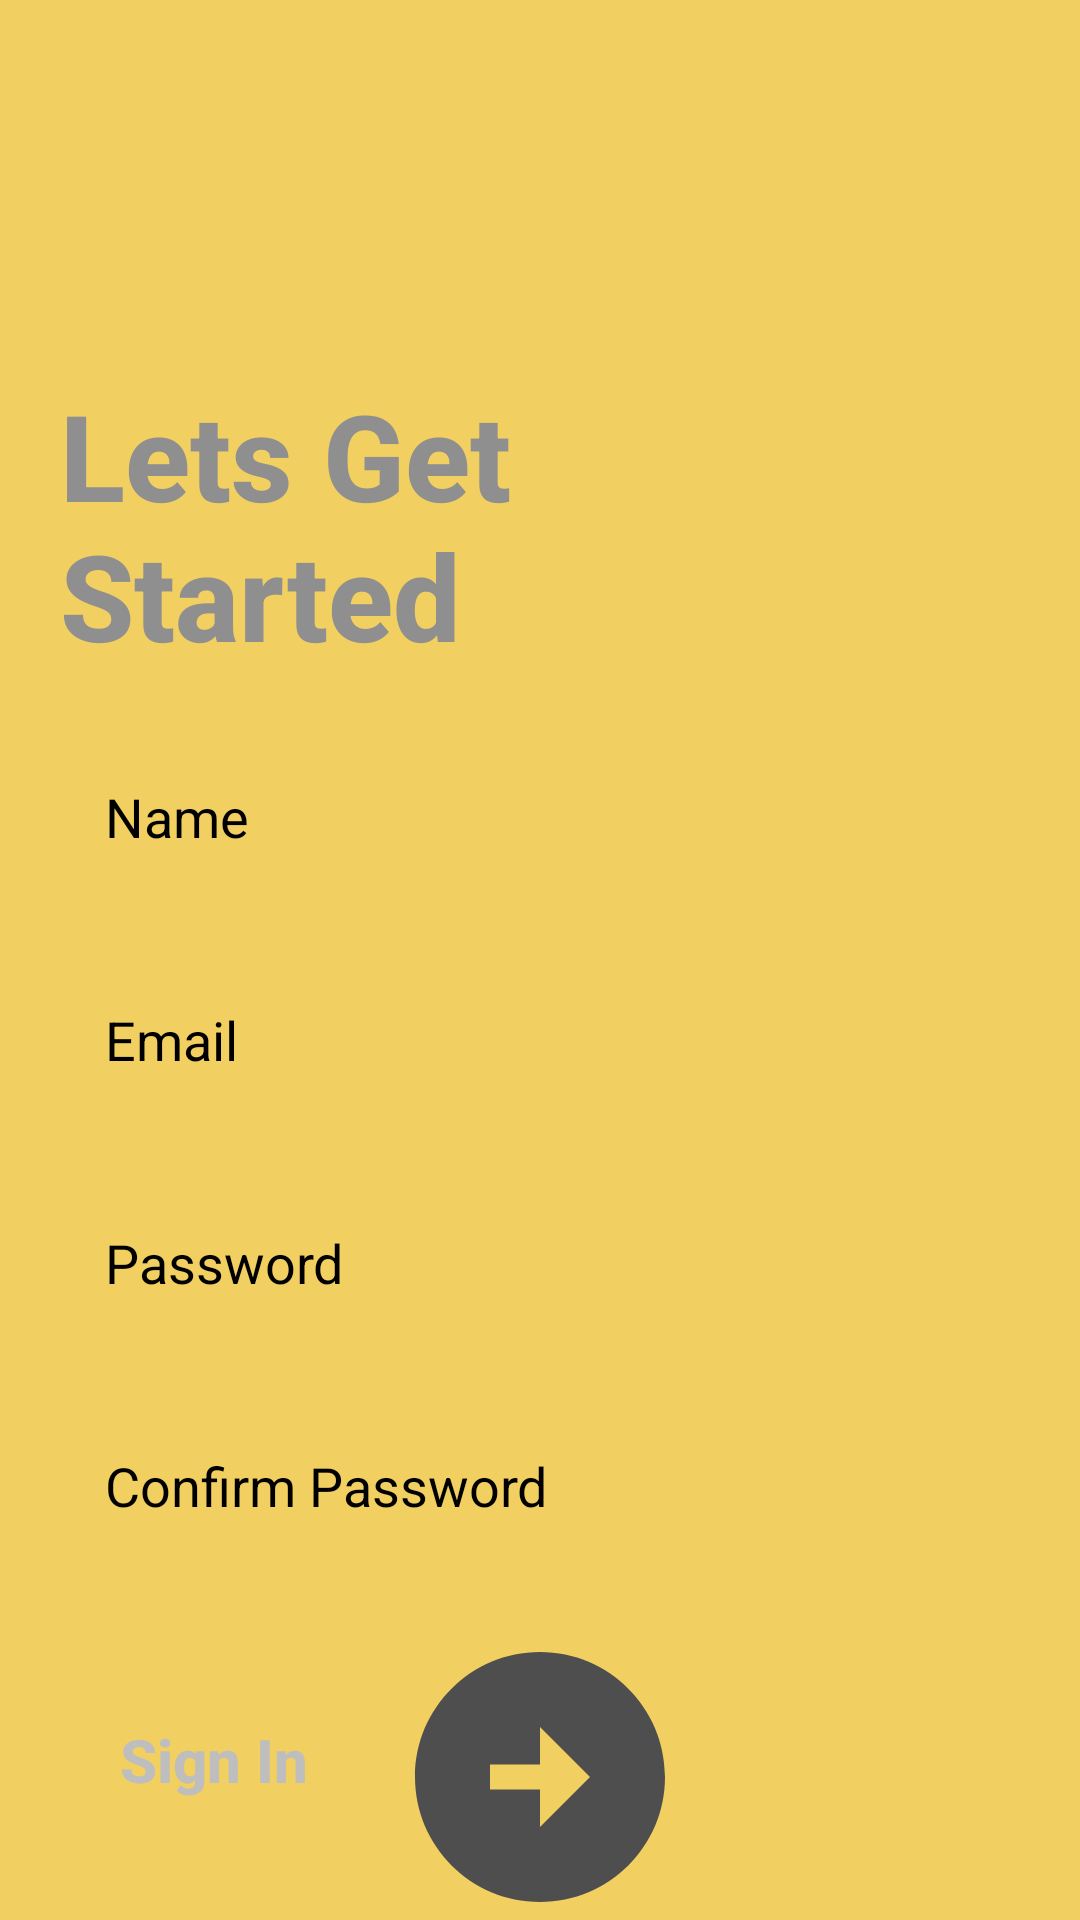

Where to tap for icons on this 1080 × 1920 app screen, as (x=x, y=y):
arrow right: (x=540, y=1777)
